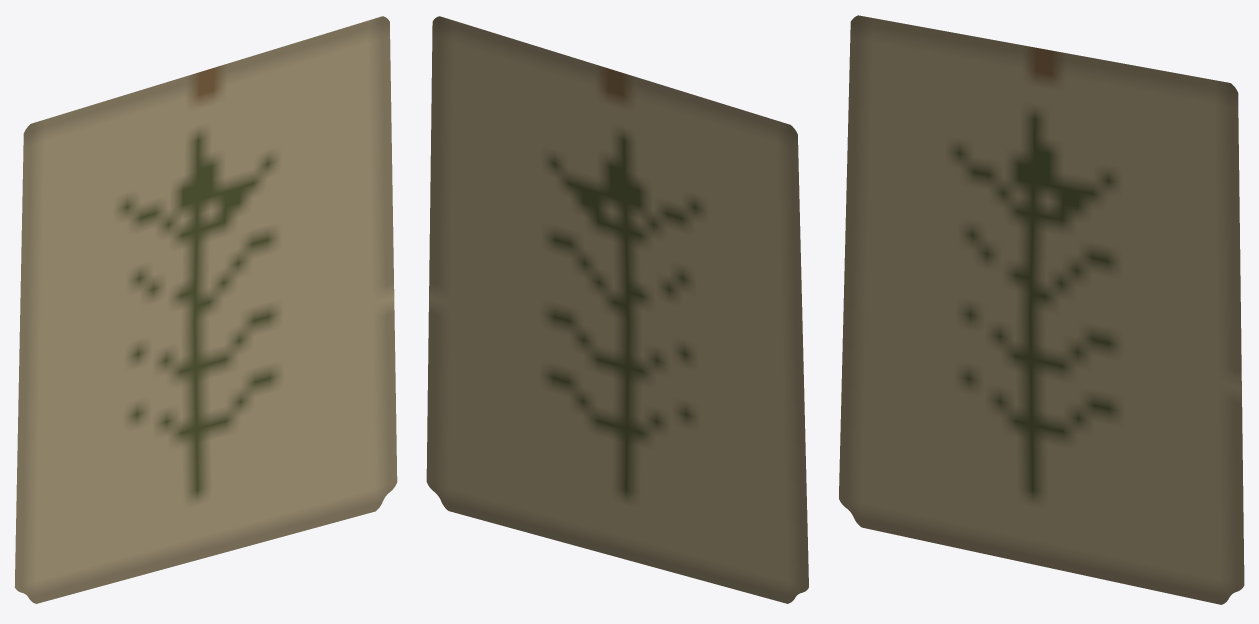
File: SM_Poster_Leaf2.fbx
3 views of the same model, side by side, from view 1: azimuth 30°, elevation 25°; view 2: azimuth 150°, elevation 25°; view 3: azimuth 330°, elevation 25° (orthographic). The views are drawn at different scales.
Visible parts, largest first — view 1: Poster_Leaf2_Visual; view 2: Poster_Leaf2_Visual; view 3: Poster_Leaf2_Visual.
Part boxes in pixels (x1,y1,x2,y2): Poster_Leaf2_Visual: (14,16,397,603); Poster_Leaf2_Visual: (426,16,808,603); Poster_Leaf2_Visual: (839,15,1244,604).
Bounding box in the file's own units: 0.1312 × 0.1649 × 0.000856.
